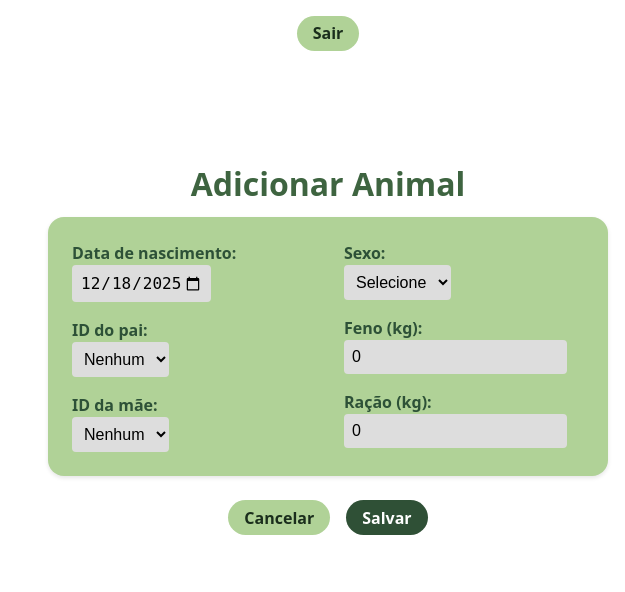
Test case: AnimalCreate page › shows error if fetch fails
Expected: the heading "Adicionar Animal" is shown, [191,162,465,205]
Step 1. Type "2024-01-01" into the date field labelled "Data de nascimento:" → (142, 284), box [72,265,211,302]
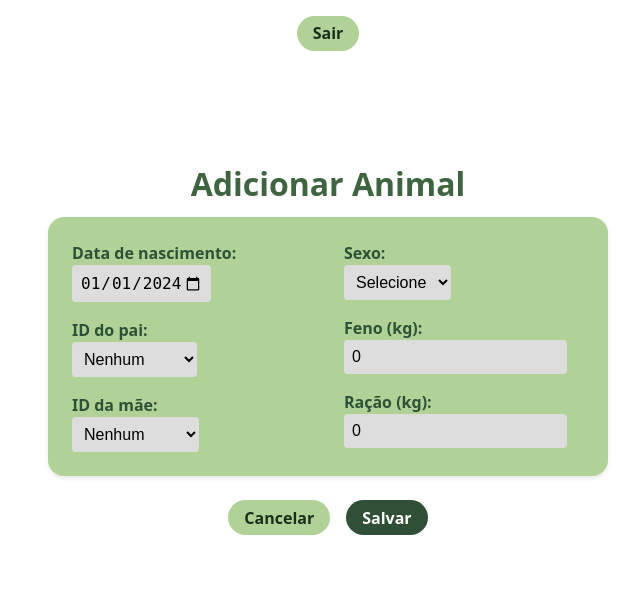
Step 2. Select "Macho" in the dropdown labelled "Sexo:" → (398, 283), box [344,265,451,300]
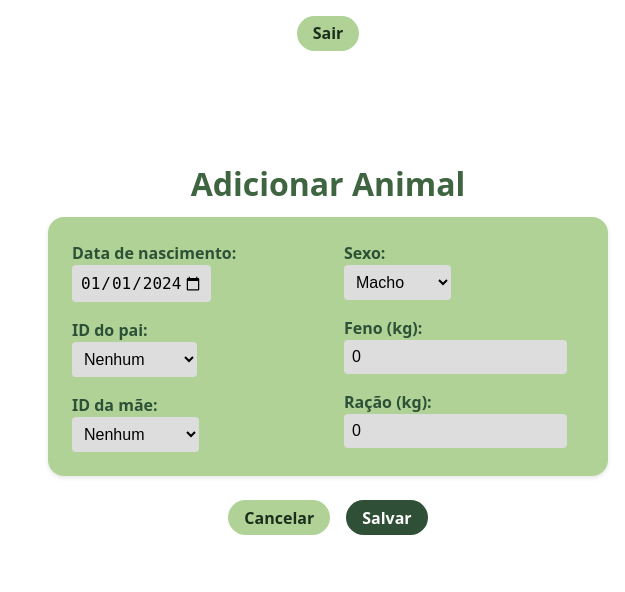
Step 3. Click the button "Salvar" → (387, 518), box [346,500,428,535]
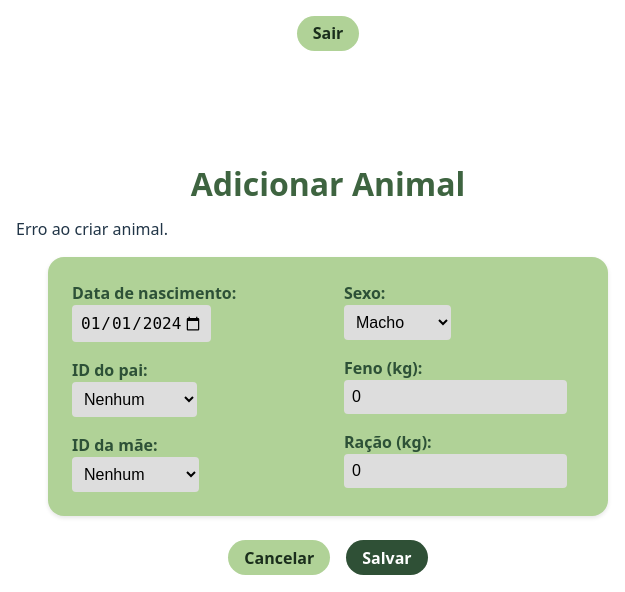
Expected: the text "Erro ao criar animal." is shown, [16,218,168,240]
